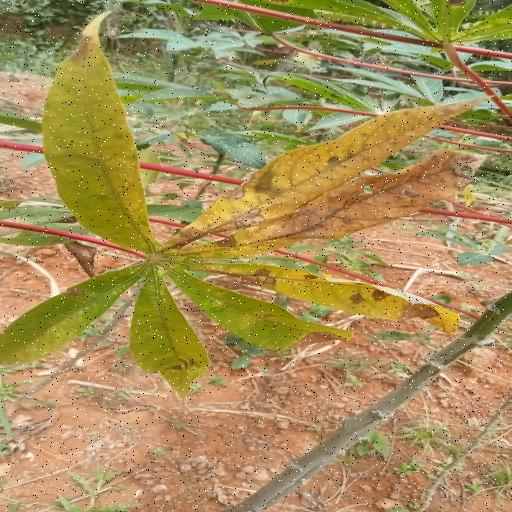Cassava_Brown_Leaf_Spot: (3, 8, 490, 390)
